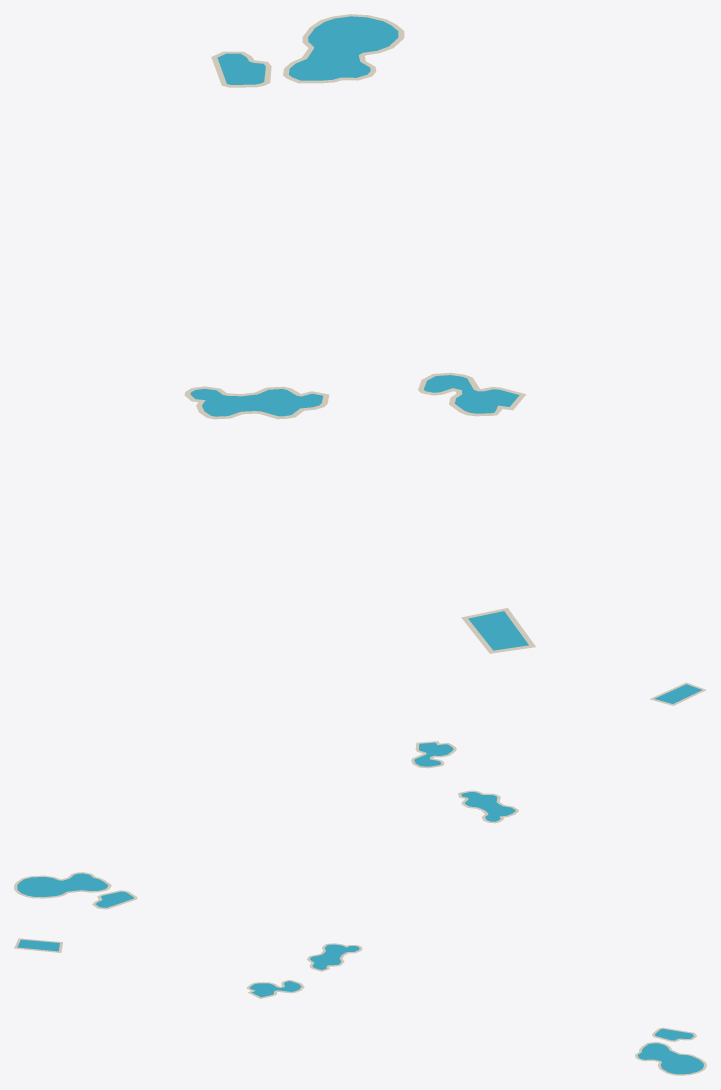
The model's file is pbpool_m24_m9.glb.
3 views of the same model, one above another, from view 1: azimuth 30°, elevation 25°; view 2: azimuth 150°, elevation 25°; view 3: azimuth 270°, elevation 25° (orthographic). The views are drawn at different scales.
Parts seen in each view (by area): view 1: pbpool_m24_m9_lod0; view 2: pbpool_m24_m9_lod0; view 3: pbpool_m24_m9_lod0.
Boxes of the visible parts, x1,y1,x2,y2 form: pbpool_m24_m9_lod0: (184,14,535,653); pbpool_m24_m9_lod0: (14,682,706,909); pbpool_m24_m9_lod0: (14,938,706,1075).
Size of what is drawn, in the model's own units: 149 by 4.35 by 313.
